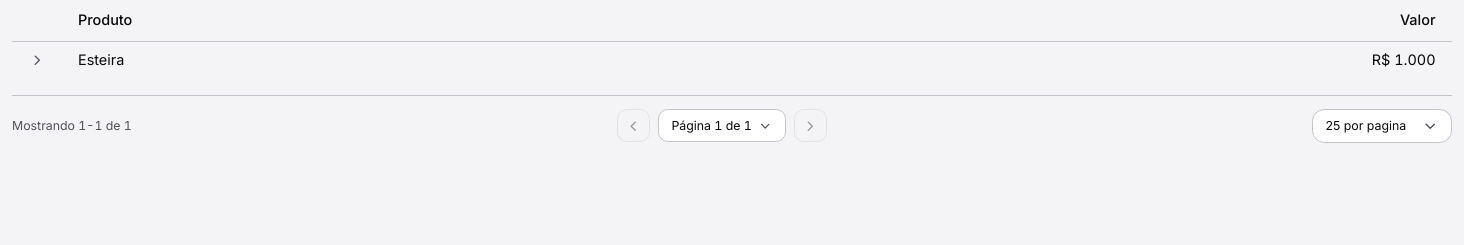
Test case: ReportDataTable , drilldown › linha com __detalhe abre/fecha a sub-tabela ao clicar
Expected: the text "Matriz DF" is not shown
Click the button with aria-label "abrir detalhe da linha" at x=101, y=60, box [12,41,1452,79]
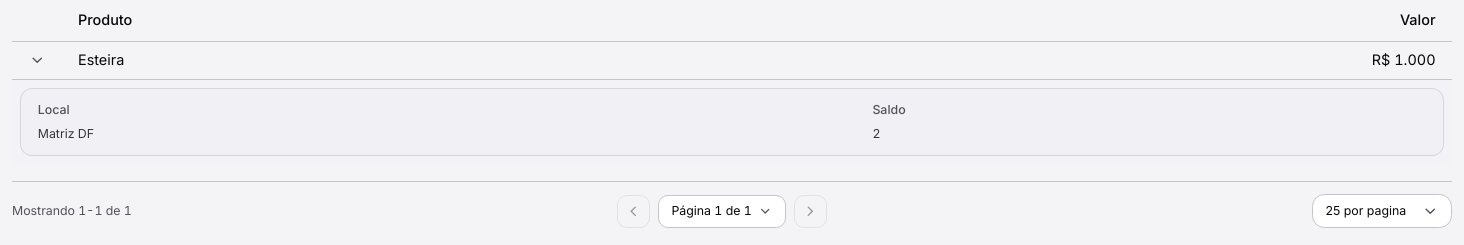
Expected: the text "Matriz DF" is shown, [30,122,864,147]
Click the button with aria-label "abrir detalhe da linha" at x=101, y=60, box [12,41,1452,79]
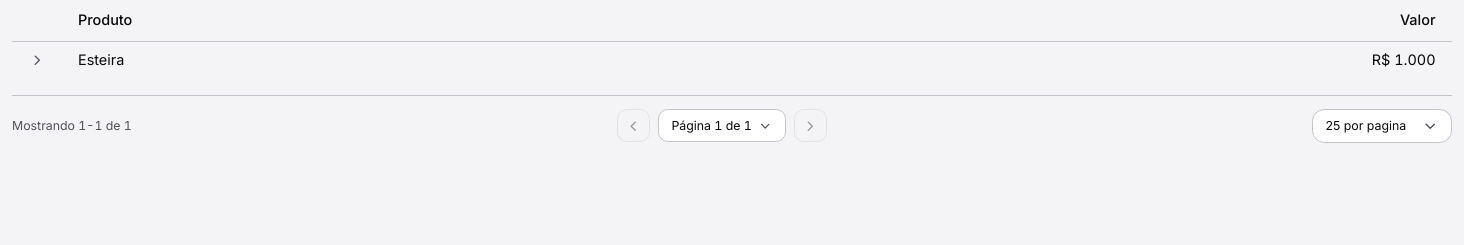
Expected: the text "Matriz DF" is gone
